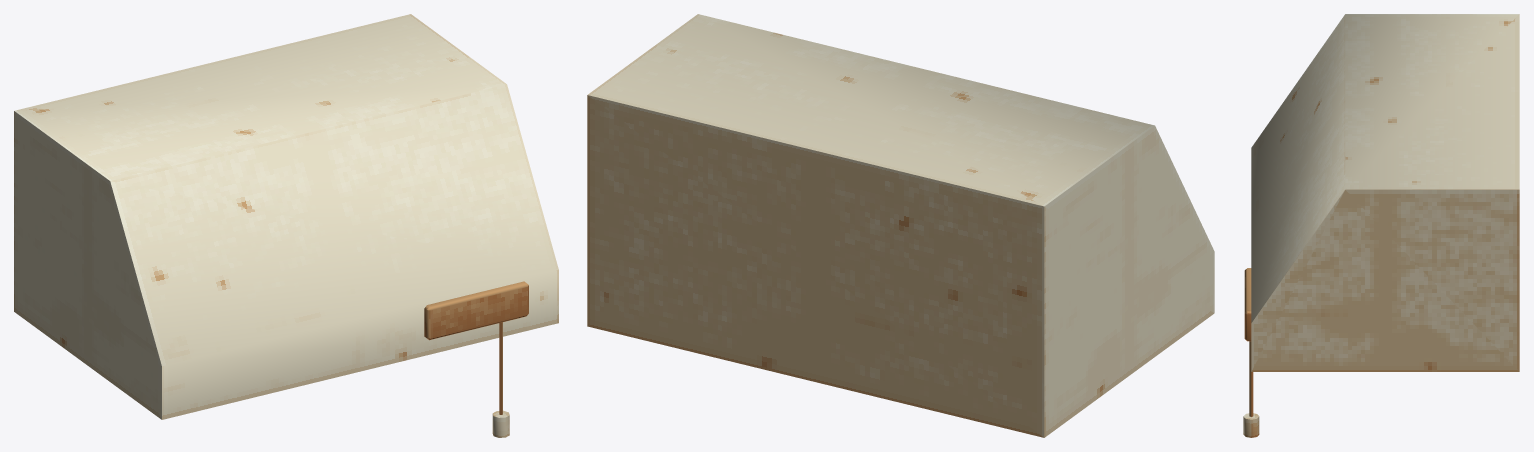
File: range_fan.glb
3 renders of one model, left to right at view 1: azimuth 30°, elevation 25°; view 2: azimuth 150°, elevation 25°; view 3: azimuth 270°, elevation 25°, orthographic. The views are drawn at different scales.
Parts seen in each view (by area): view 1: mesh; view 2: mesh; view 3: mesh.
Boxes of the visible parts, <box> form: mesh: <box>14,14,558,437</box>; mesh: <box>587,14,1214,437</box>; mesh: <box>1243,14,1519,437</box>.
Bounding box in the file's own units: 0.62 × 0.445 × 0.412.
1 material, 1 textured.
